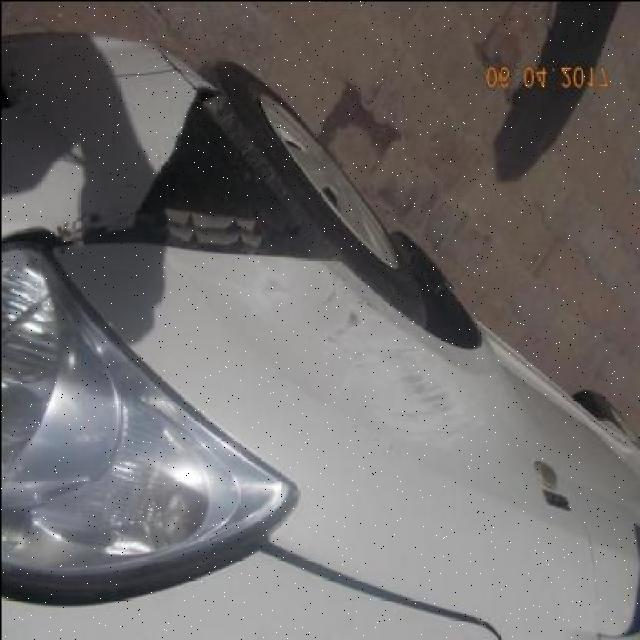damage: (0, 82, 349, 256), (350, 344, 486, 448), (104, 41, 198, 92), (235, 260, 295, 321), (323, 305, 365, 350), (353, 288, 382, 316), (317, 282, 339, 309)
